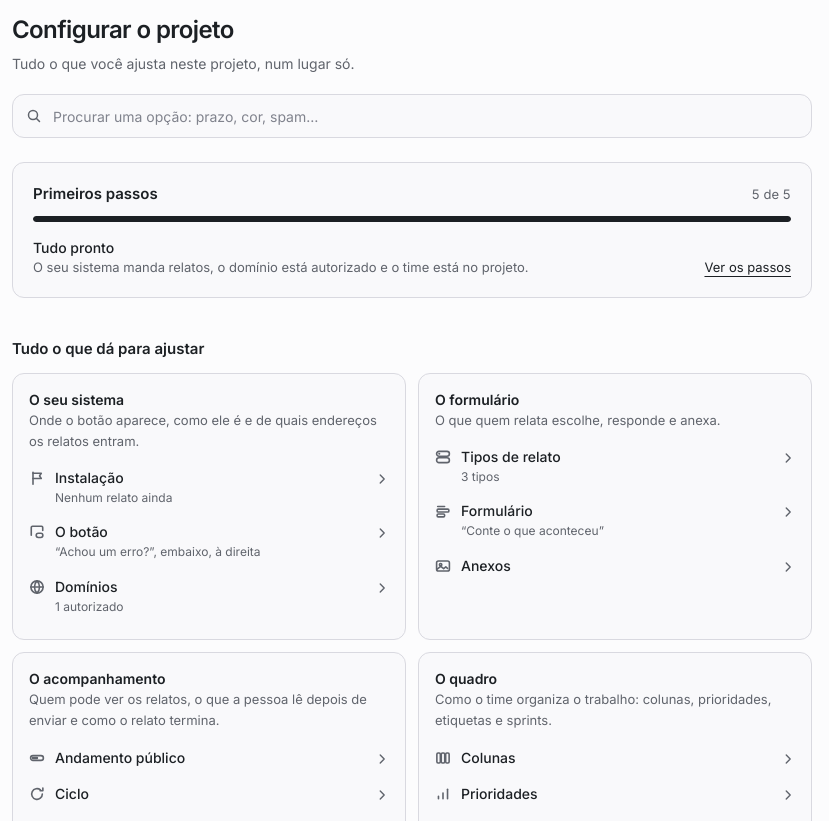
Test: Configurar o projeto — os primeiros passos › tudo feito: o cartão diz "Tudo pronto", e dá para ver os passos de novo
Expected: the text "Tudo pronto" is shown, top-left (33, 238), bottom-right (114, 256)
Click the button "Ver os passos" at (748, 267), box top-left (704, 258), bottom-right (791, 277)
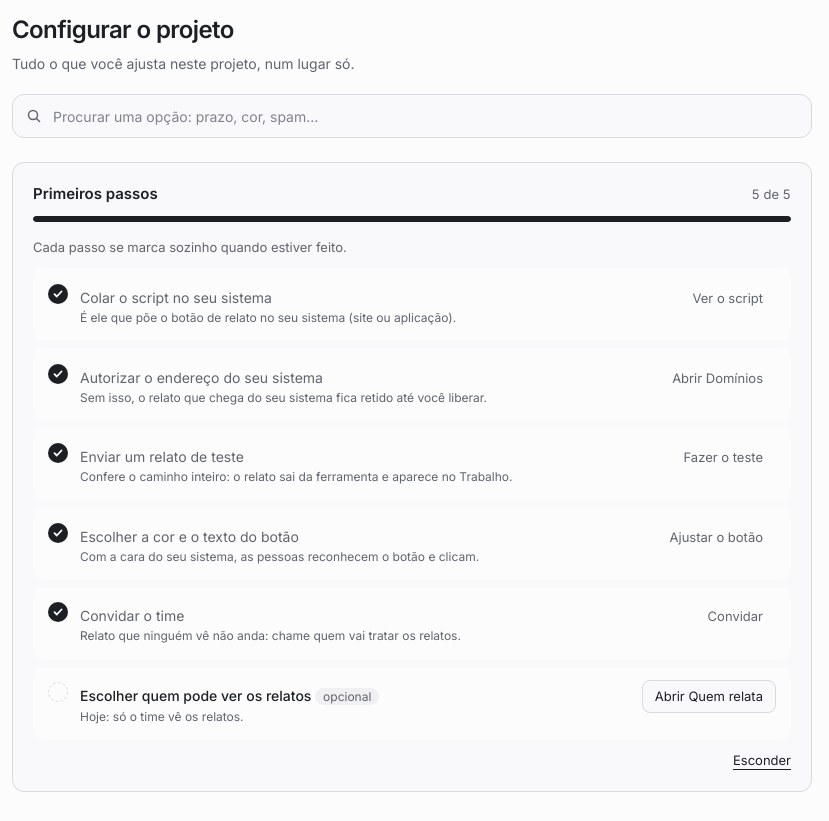
Now the element showing "Escolher quem pode ver os relatos opcional" is shown, box top-left (80, 686), bottom-right (379, 706)
